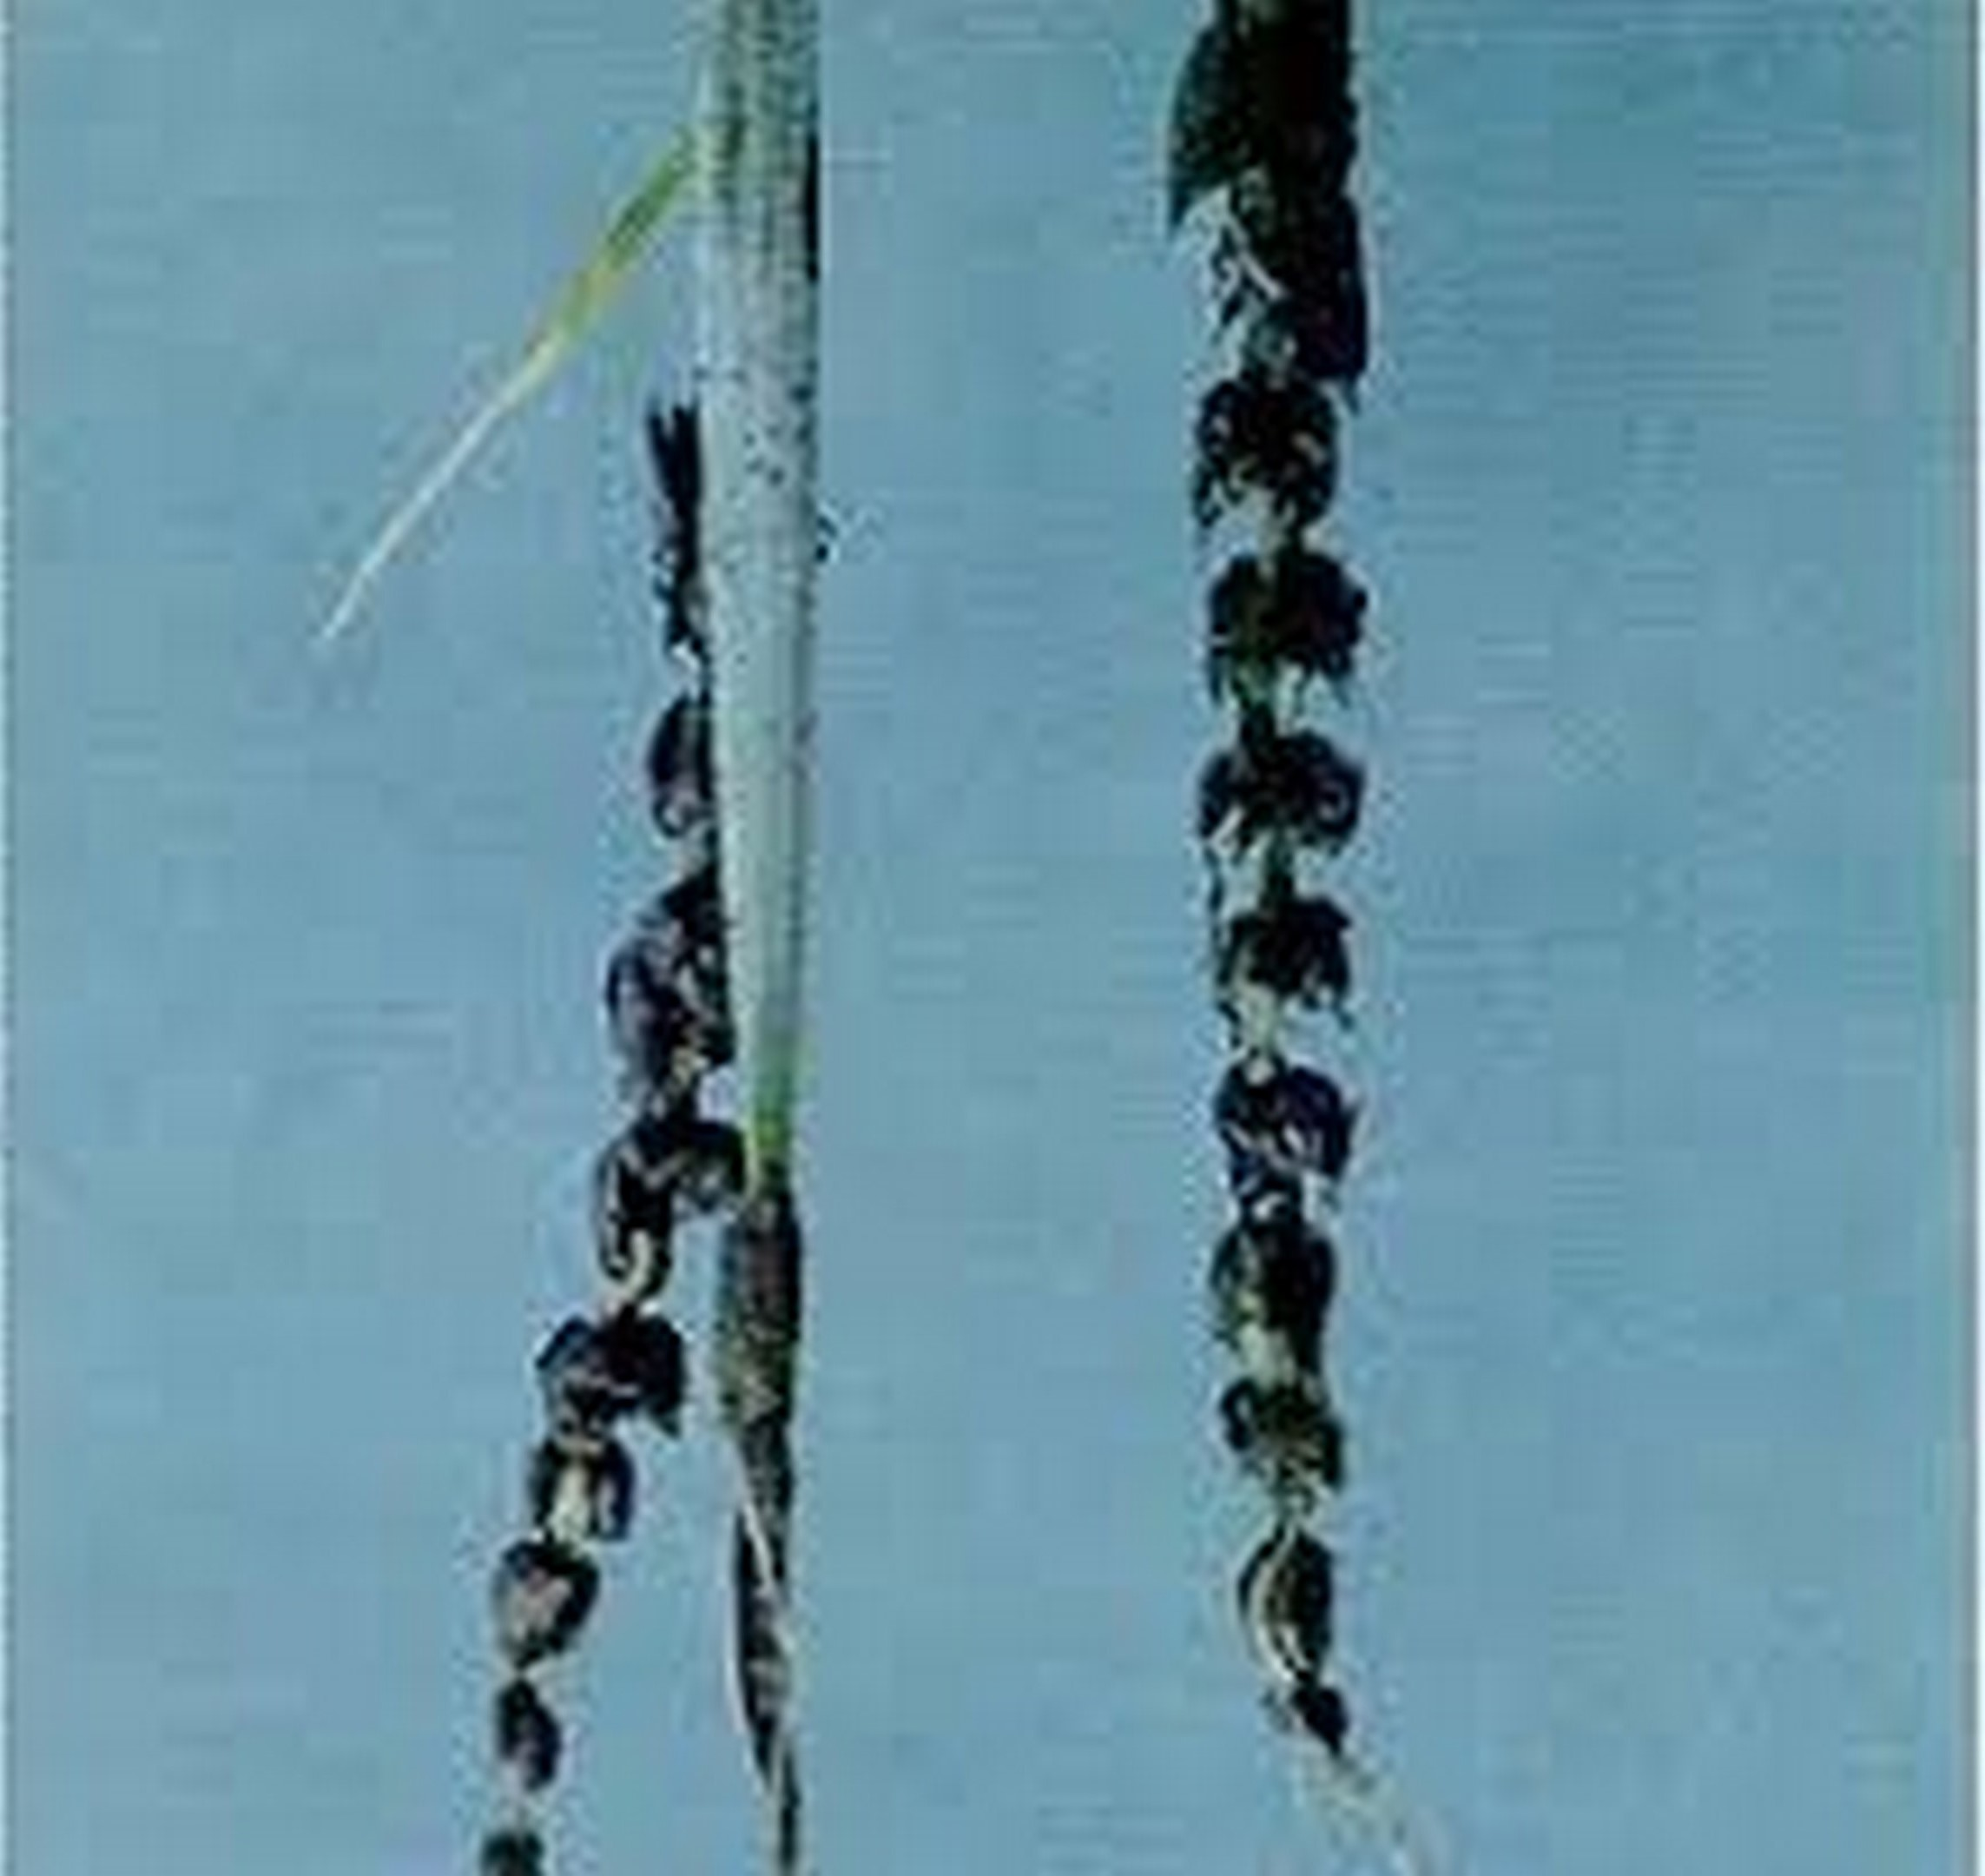Wheat Loose Smut: (1126, 28, 1477, 1770)
